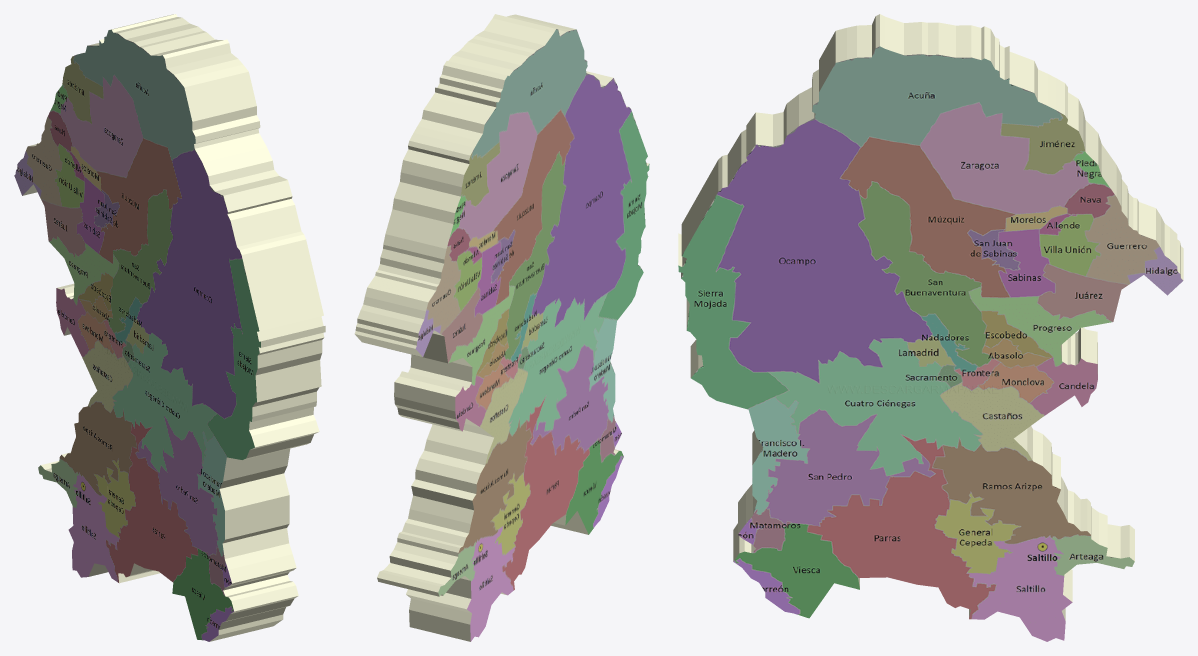
Rendered from coahuila.glb.
The picture shows the model from 3 angles, left to right: view 1: azimuth 30°, elevation 25°; view 2: azimuth 150°, elevation 25°; view 3: azimuth 270°, elevation 25°; orthographic projection. The views are drawn at different scales.
Visible parts, largest first — view 1: Plano; view 2: Plano; view 3: Plano.
Boxes of the visible parts, x1,y1,x2,y2 form: Plano: (14, 14, 325, 641); Plano: (354, 14, 649, 641); Plano: (678, 14, 1183, 641).
Size of the model in its own units: 0.136 by 1.17 by 0.9008.
1 material, 1 textured.
